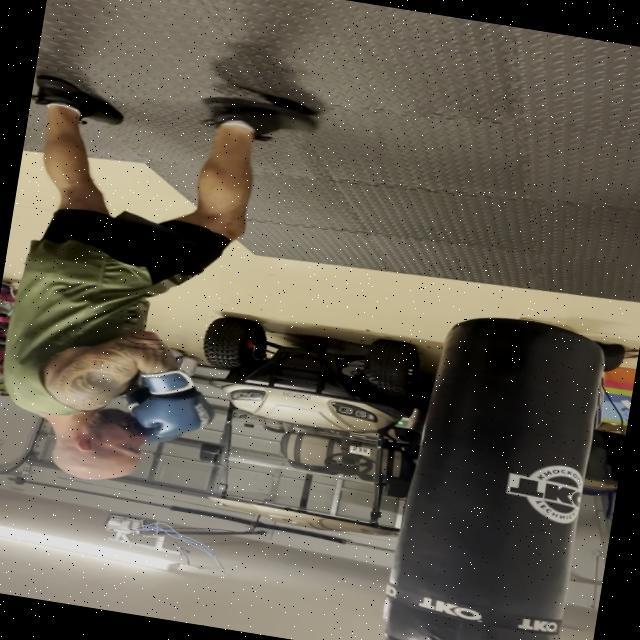bag: (367, 307, 628, 640)
no punch: (0, 301, 226, 496)
